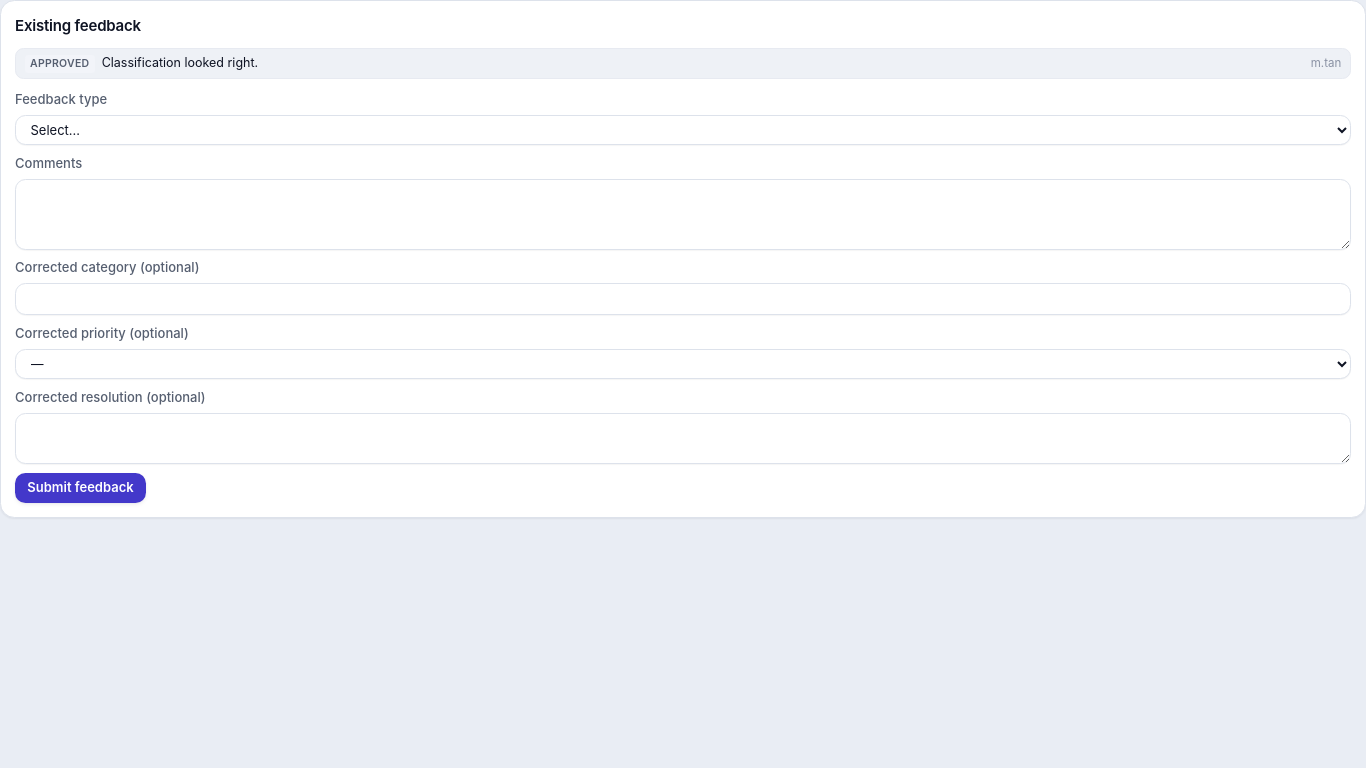
Scenario: FeedbackForm › requires comments before submitting
This screenshot has width=1366, height=768.
Select "Approved" in the dropdown labelled "Feedback type" at (683, 130), box [15,114,1351,145]
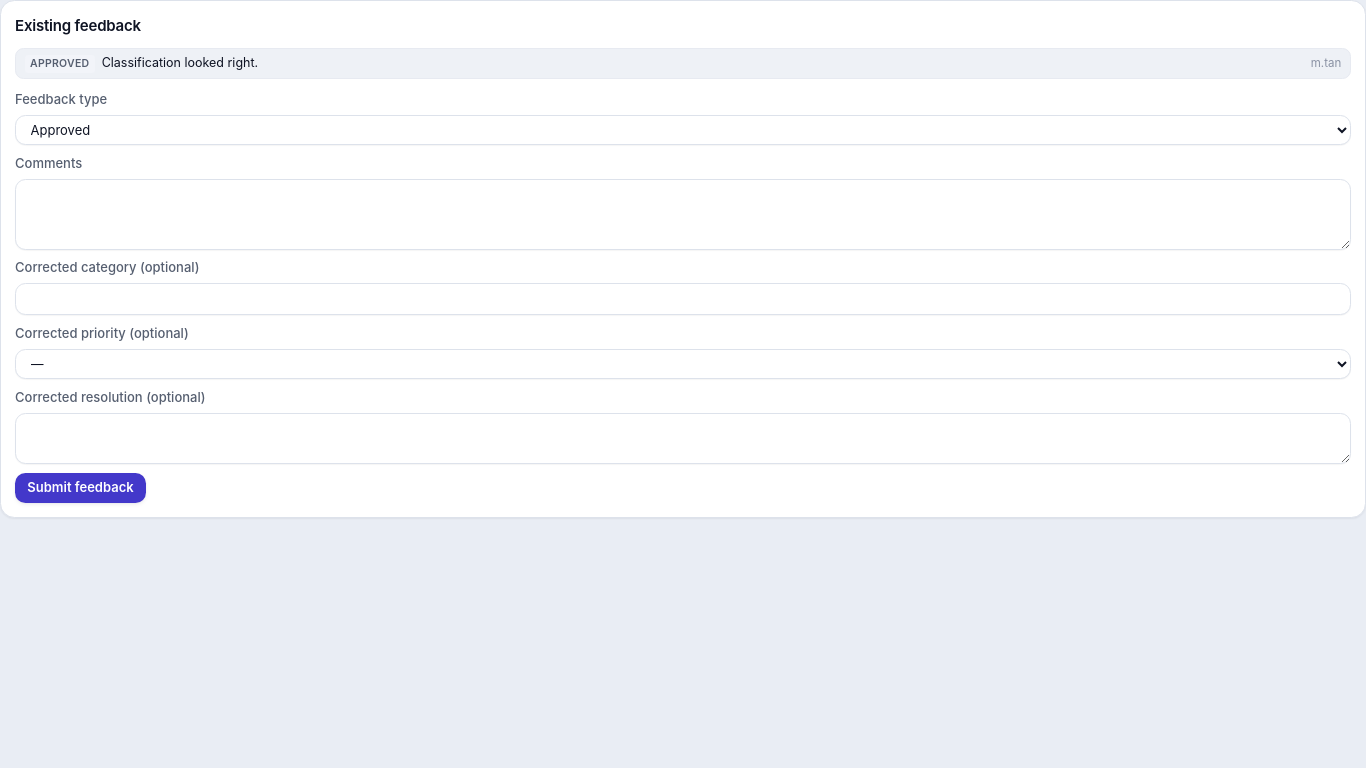
Click the button "Submit feedback" at (80, 488), box [15,473,146,503]
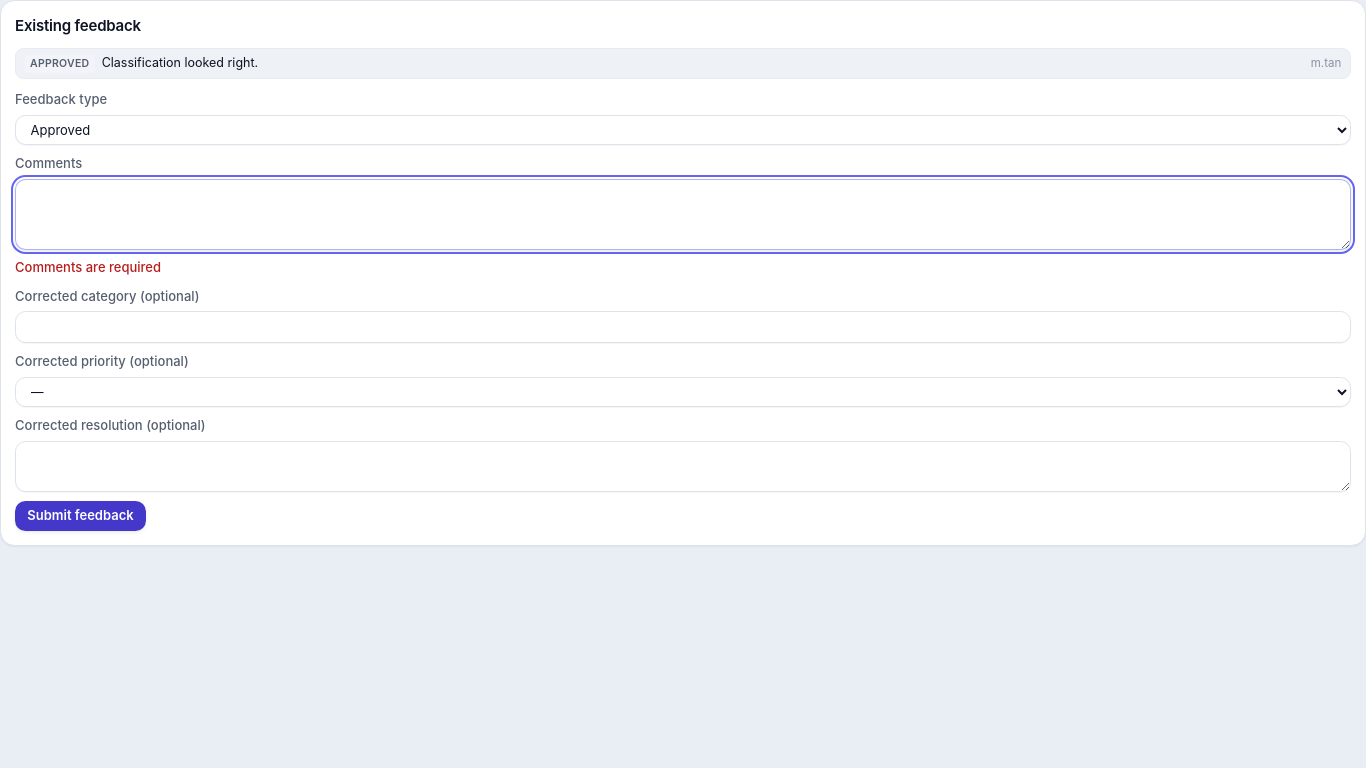
Check: the text "Comments are required" is shown, box [15,259,161,275]
